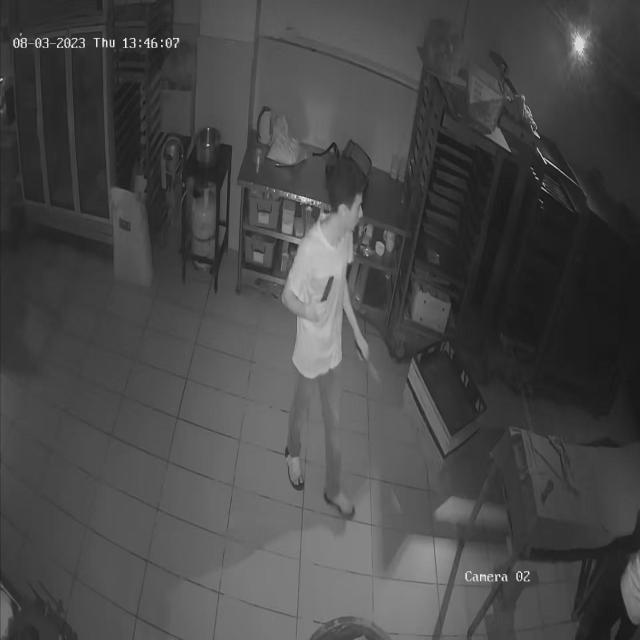Knife: (353, 342, 387, 388), (317, 265, 341, 318)
